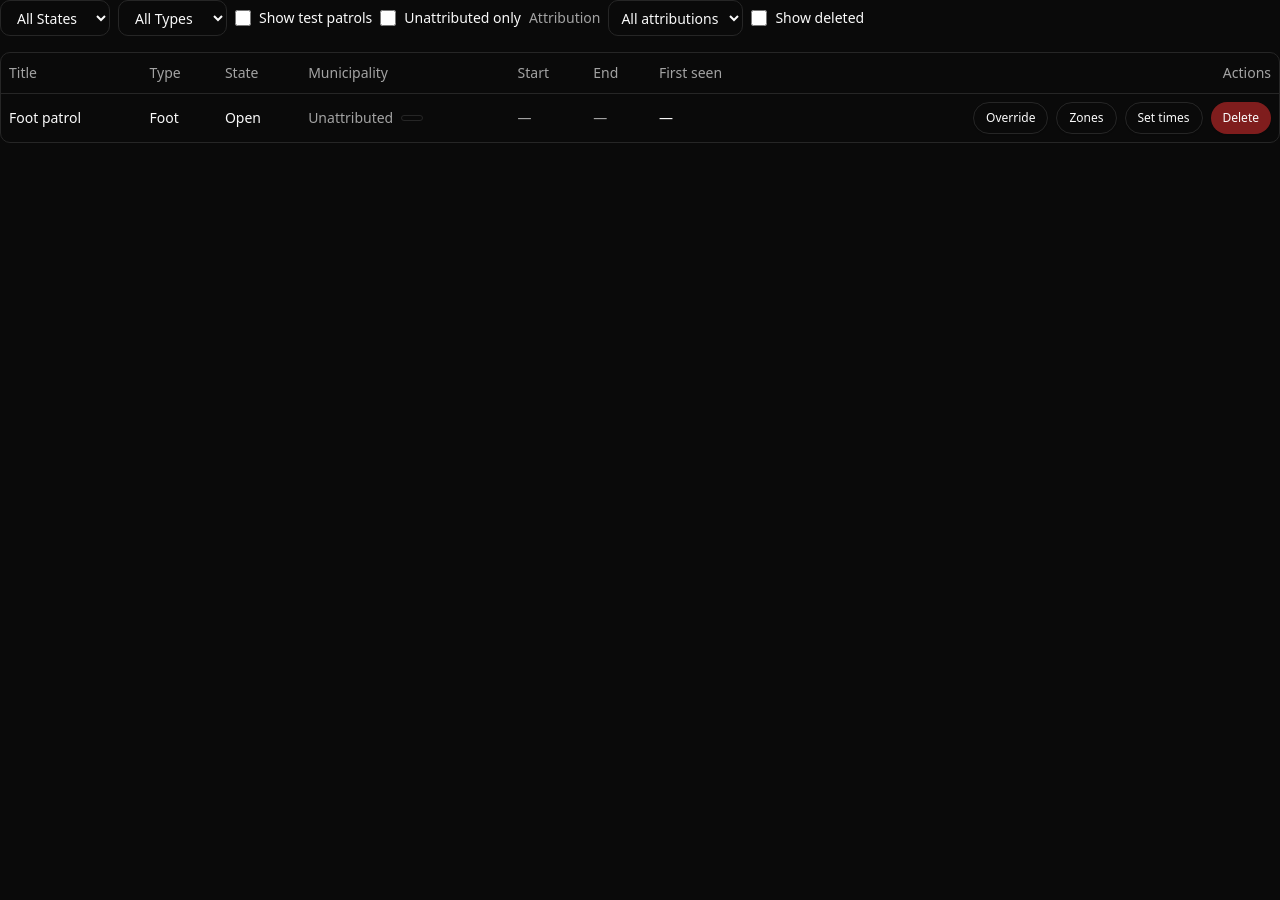
Test: PatrolsTable — zone coverage override › disables 'Include zone' until a zone is selected
Click the button with test id "zone-override-button-p1" at (1087, 118), box 1056,102 -> 1117,134
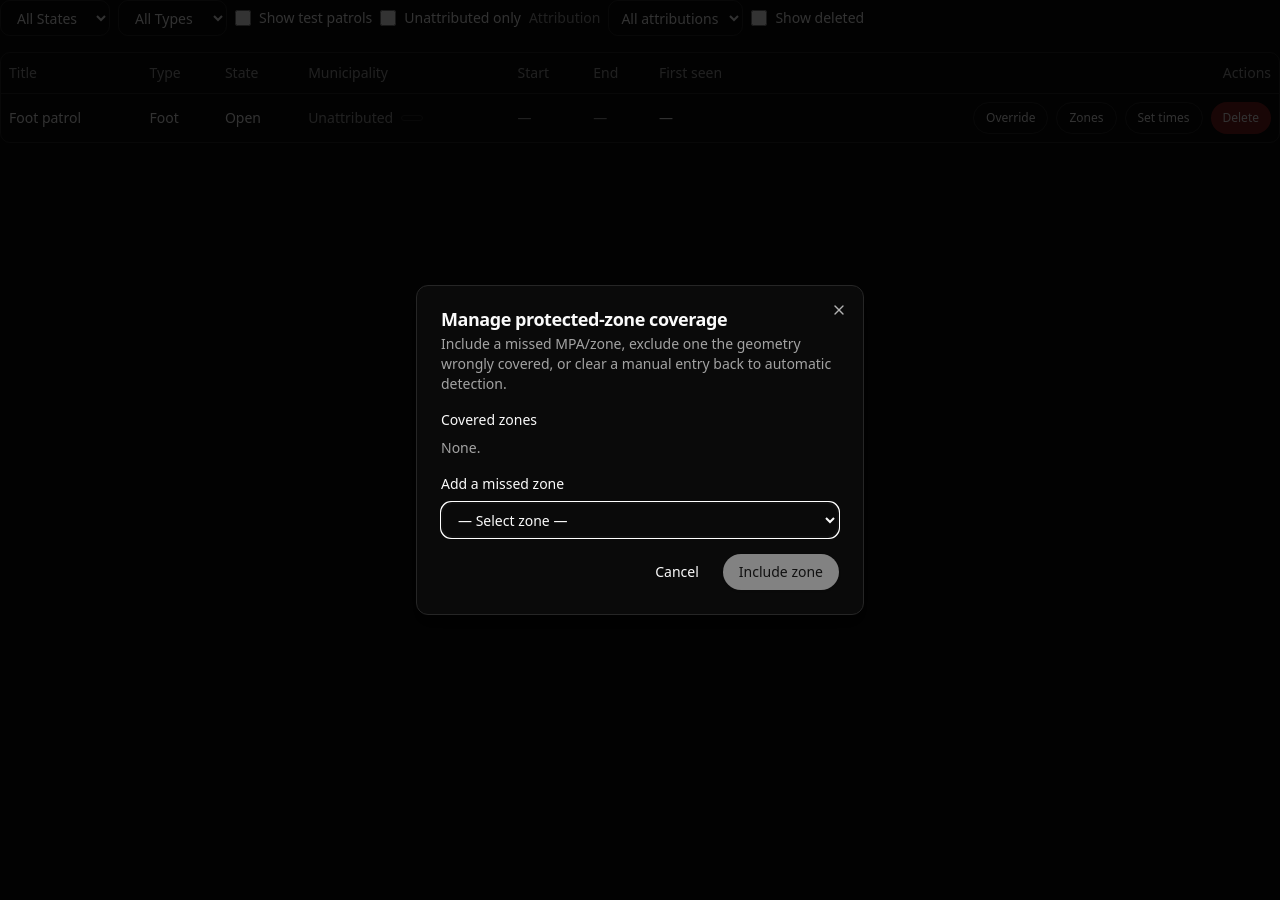
Check: the button with test id "include-zone-button" is disabled, box 723,554 -> 839,590
